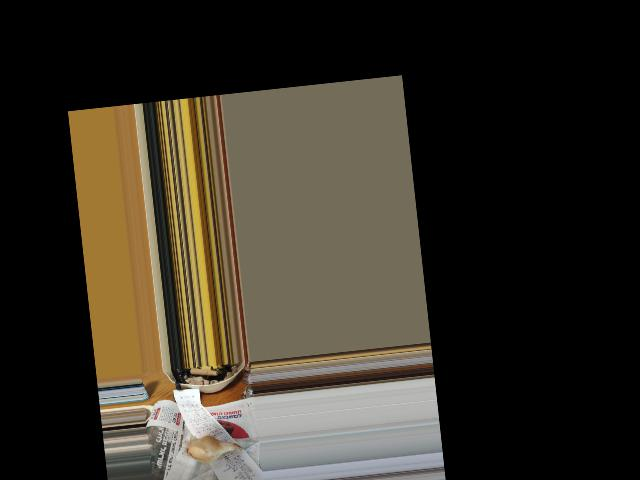onion: (186, 435, 226, 465)
